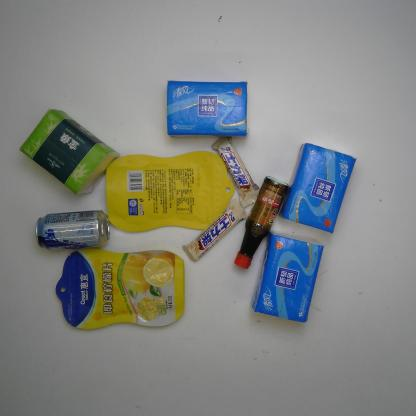Alcohol: (33, 209, 112, 252)
Chocolate: (183, 198, 249, 262), (210, 134, 260, 208)
Dried Fruit: (102, 150, 238, 232), (58, 249, 186, 329)
Seasoner: (233, 175, 290, 268)
Tissue: (18, 109, 116, 195), (280, 142, 361, 235), (252, 232, 324, 324), (162, 78, 252, 140)
